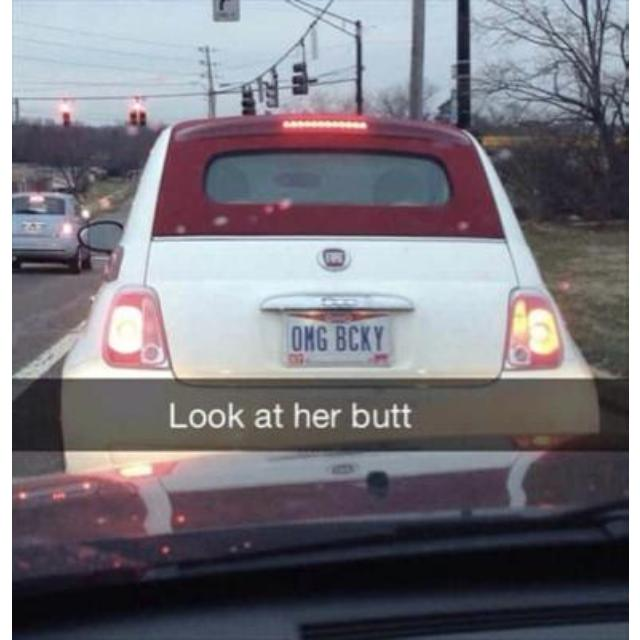car: (56, 117, 602, 486), (11, 193, 91, 275)
plate: (280, 314, 394, 370)
